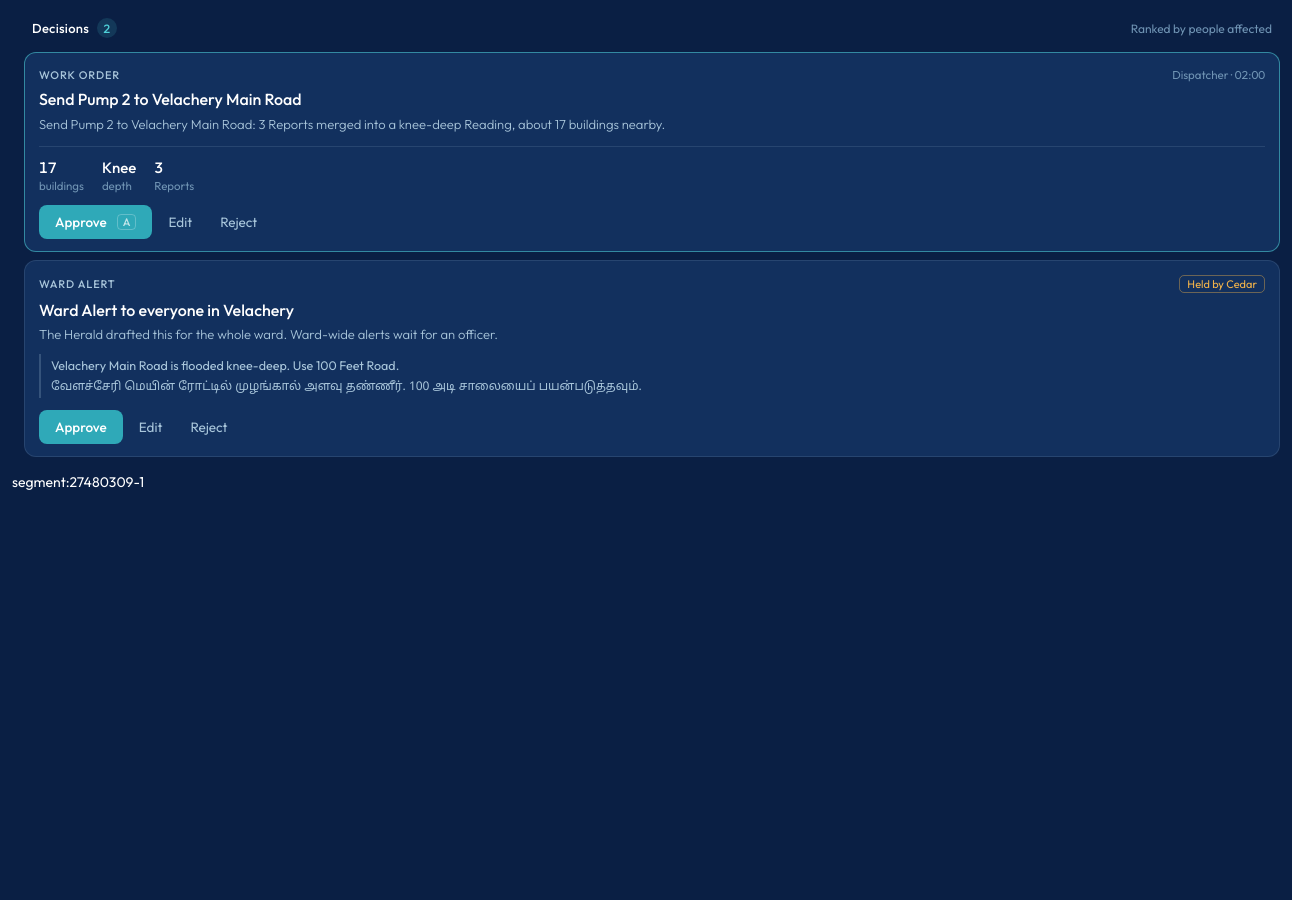
editing a Ward Alert posts edited text
Expected: the element "Ward Alert to everyone in Velachery" is shown, [24,260,1280,457]
Click the button "Edit" below "Ward Alert to everyone in Velachery" at coordinates (151, 427), box [127,410,174,444]
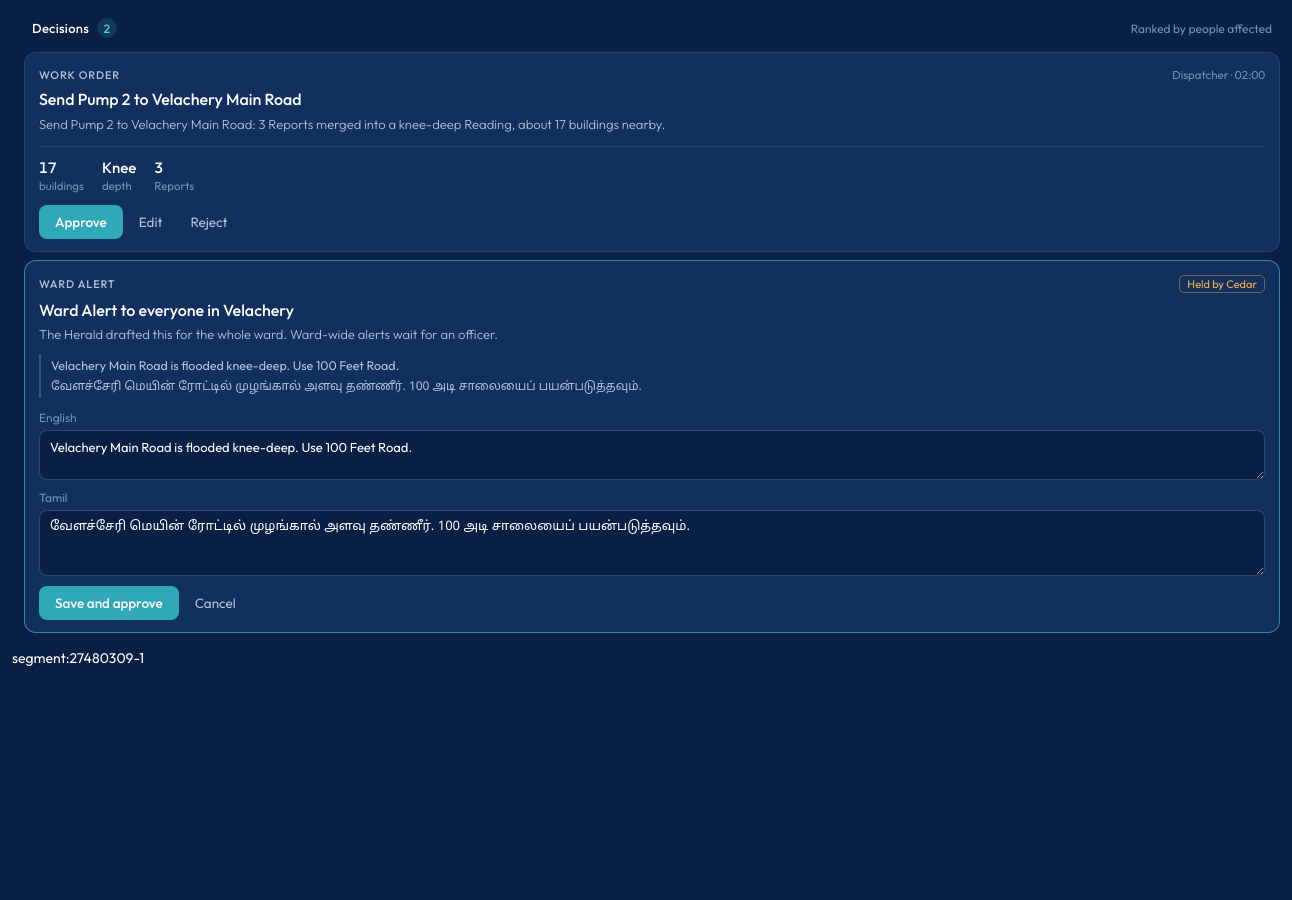
Replace the text in the text box labelled "English" with "Avoid Velachery Main Road." at coordinates (652, 455), box [39,430,1265,480]
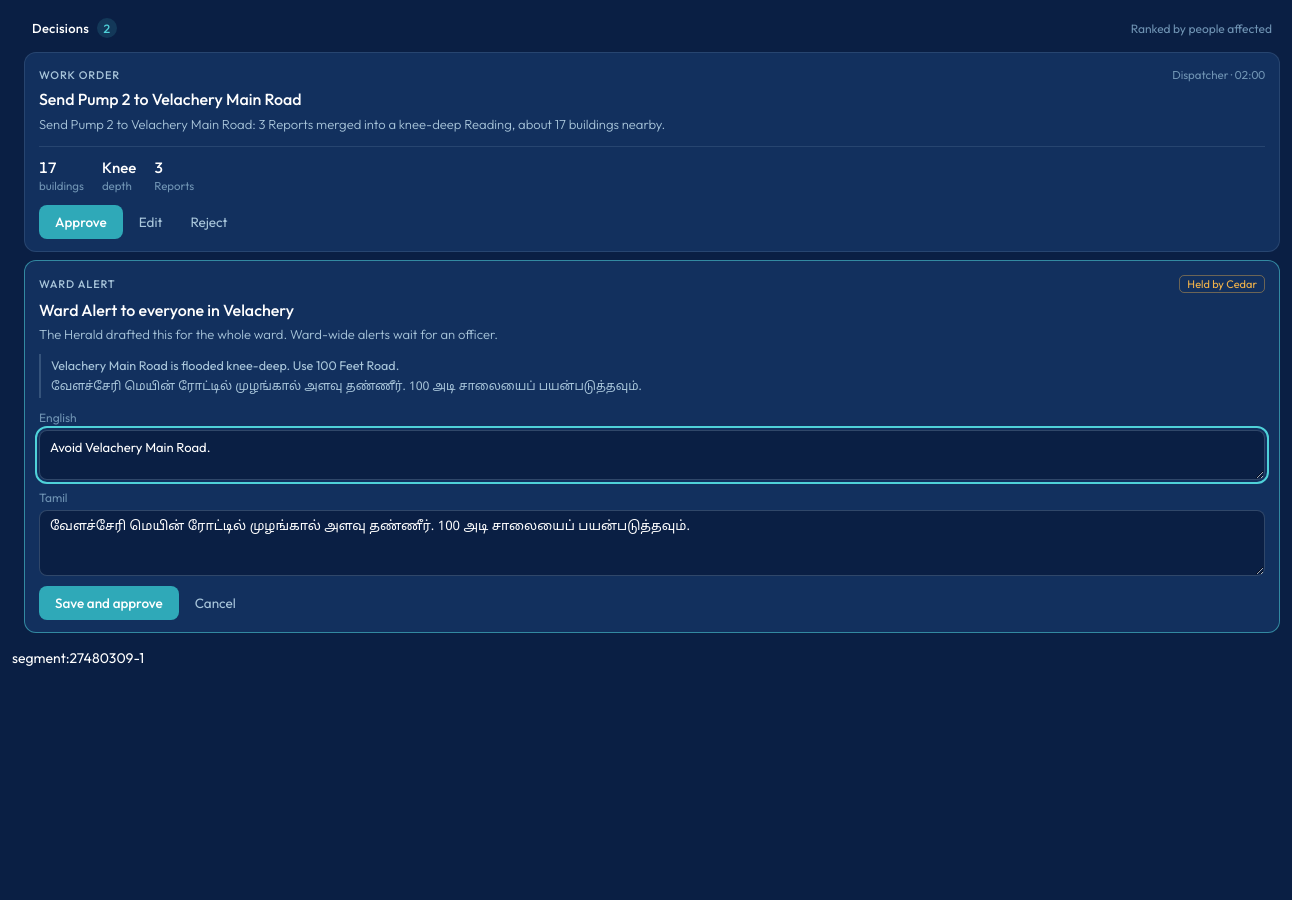
Click the button "Save and approve" at coordinates (109, 603), box [39,586,179,620]
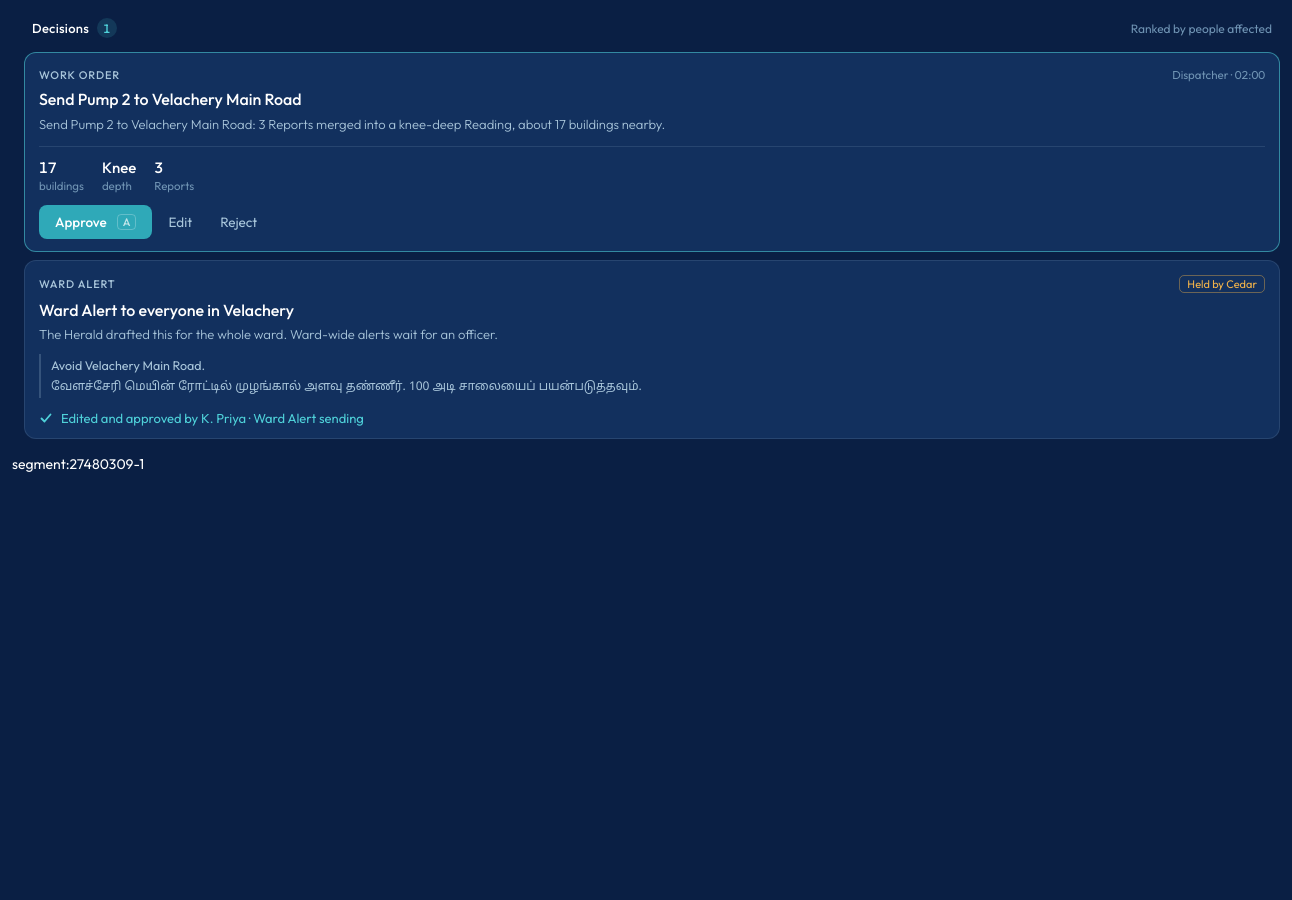
Now the text "Edited and approved by K. Priya · Ward Alert sending" is shown, box [39,410,364,426]
